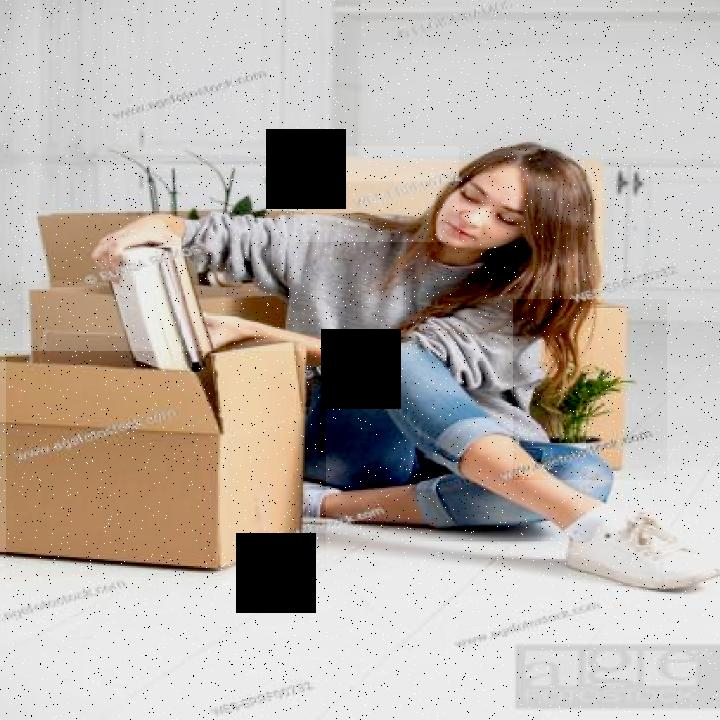box: (6, 351, 326, 577), (23, 210, 226, 396), (513, 299, 667, 480), (294, 146, 459, 242)
